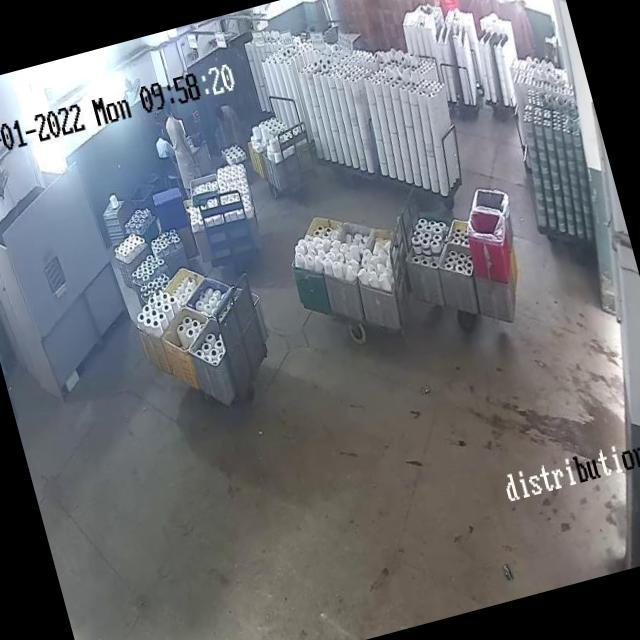person: (158, 98, 204, 198), (214, 94, 248, 162), (148, 122, 174, 158)
